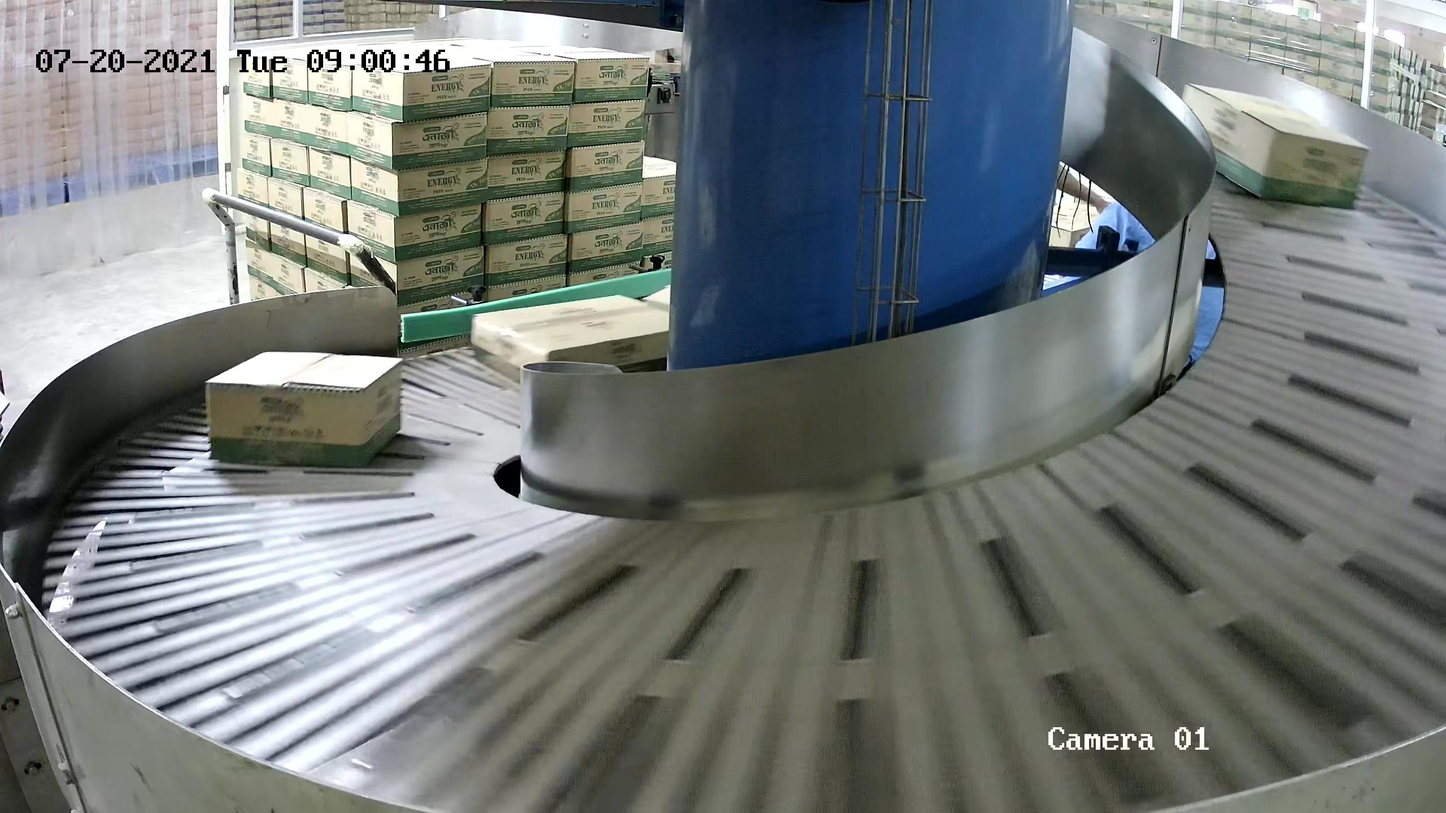Box: (1171, 82, 1369, 211), (472, 294, 690, 401), (206, 351, 403, 469)
